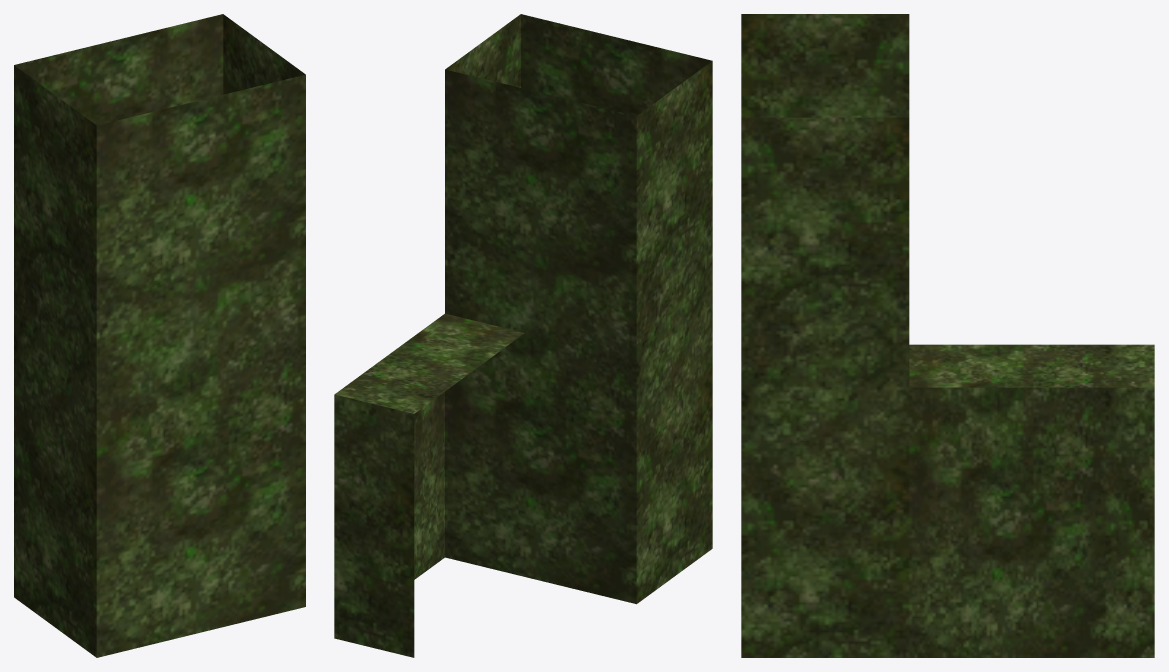
File: OVERHILL_A_01_LINE162.fbx
3 views of the same model, side by side, from view 1: azimuth 30°, elevation 25°; view 2: azimuth 150°, elevation 25°; view 3: azimuth 270°, elevation 25° (orthographic). The views are drawn at different scales.
Visible parts, largest first — view 1: OVERHILL_A_01_LINE162; view 2: OVERHILL_A_01_LINE162; view 3: OVERHILL_A_01_LINE162.
Part boxes in pixels (x1=…): OVERHILL_A_01_LINE162: x1=14, y1=14, x2=305, y2=657; OVERHILL_A_01_LINE162: x1=334, y1=14, x2=712, y2=657; OVERHILL_A_01_LINE162: x1=741, y1=14, x2=1154, y2=657.
Size of the model in its own units: 17912 by 43580 by 30188.
1 material, 1 textured.
